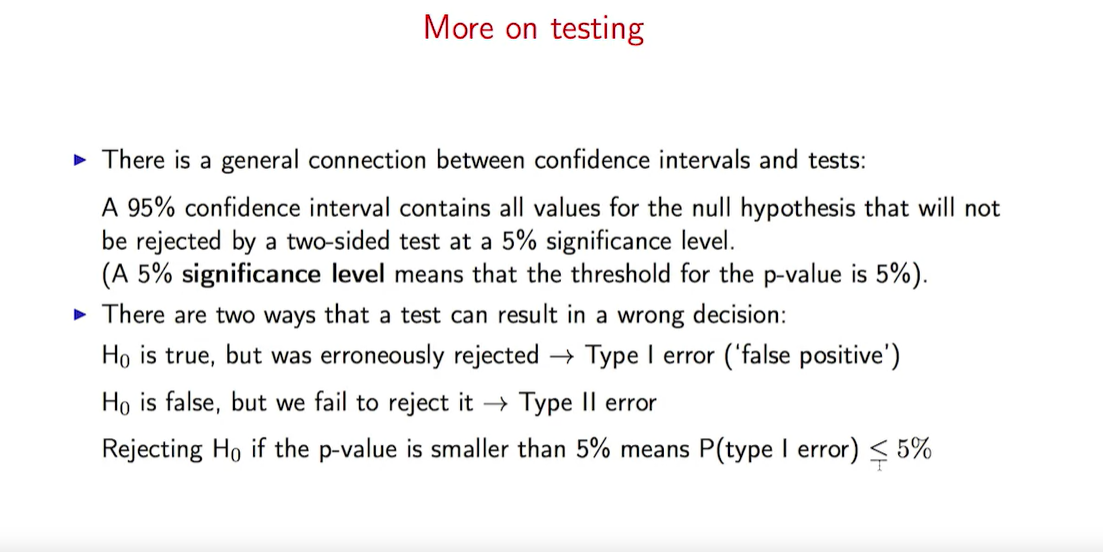equation: (703, 433, 936, 469)
text: (98, 195, 1006, 257), (97, 259, 936, 294), (101, 144, 869, 182), (99, 340, 912, 370), (102, 298, 794, 332), (103, 389, 662, 421), (102, 436, 693, 462), (417, 9, 647, 48)
